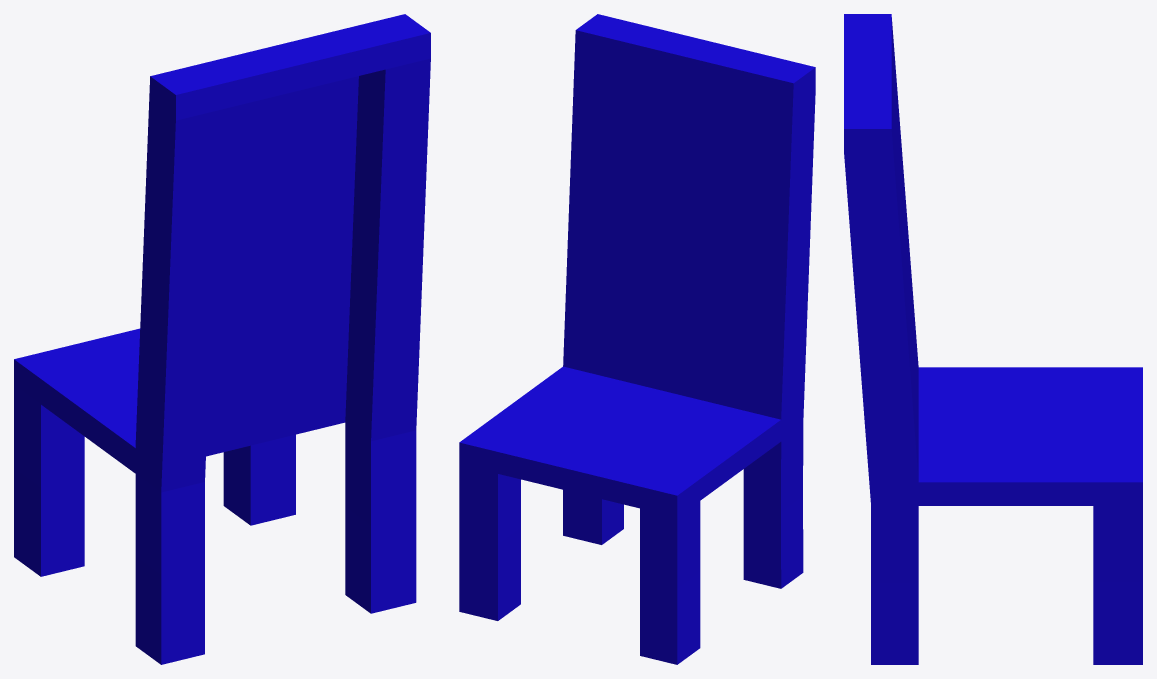
Rendered from silla-pintada.fbx.
The picture shows the model from 3 angles, left to right: view 1: azimuth 30°, elevation 25°; view 2: azimuth 150°, elevation 25°; view 3: azimuth 270°, elevation 25°; orthographic projection. The views are drawn at different scales.
Visible parts, largest first — view 1: Cube; view 2: Cube; view 3: Cube.
Boxes of the visible parts, x1,y1,x2,y2 form: Cube: [14, 14, 430, 664]; Cube: [459, 14, 815, 664]; Cube: [844, 14, 1142, 664].
Size of the model in its own units: 200 by 435 by 220.
